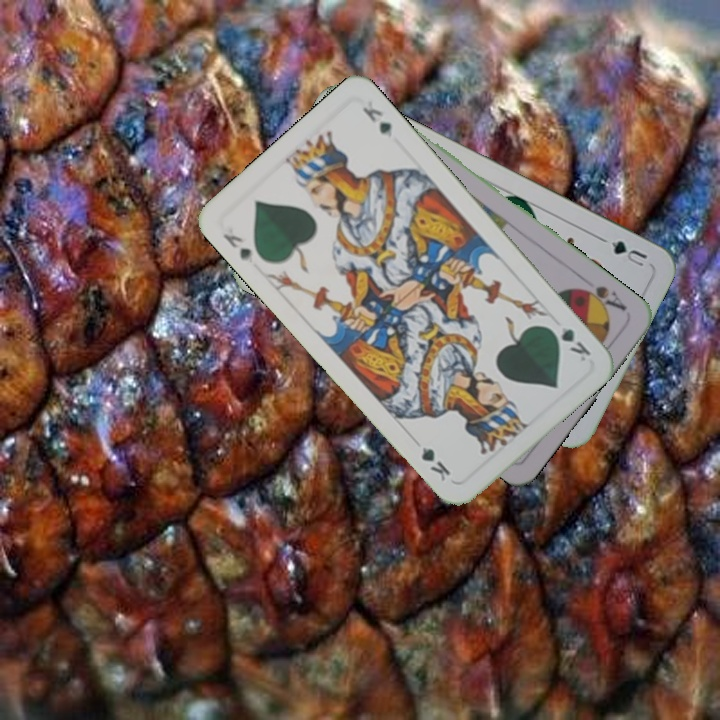GK: (544, 322, 593, 364), (218, 229, 254, 264)
GU: (597, 234, 650, 269)
SA: (574, 281, 630, 315)
